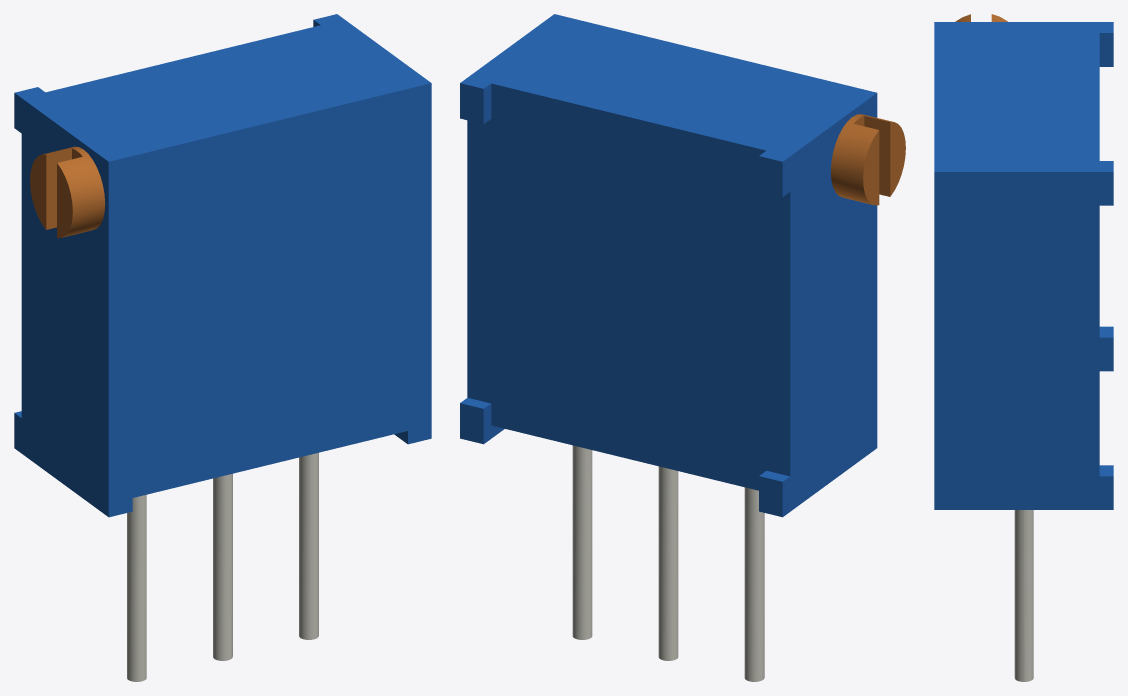
The model's file is kc-potentiometer_bourns_3296x_horizontal.glb.
The picture shows the model from 3 angles, left to right: view 1: azimuth 30°, elevation 25°; view 2: azimuth 150°, elevation 25°; view 3: azimuth 270°, elevation 25°; orthographic projection. The views are drawn at different scales.
Parts seen in each view (by area): view 1: 0_0.16666666666666666_0.5_0, 0.6666666666666666_0.6666666666666666_0.5833333333333334_0.8, 0.5_0.16666666666666666_0_0; view 2: 0_0.16666666666666666_0.5_0, 0.6666666666666666_0.6666666666666666_0.5833333333333334_0.8, 0.5_0.16666666666666666_0_0; view 3: 0_0.16666666666666666_0.5_0, 0.6666666666666666_0.6666666666666666_0.5833333333333334_0.8.
Part boxes in pixels (x1,y1,x2,y2): 0_0.16666666666666666_0.5_0: (14, 14, 431, 517); 0.6666666666666666_0.6666666666666666_0.5833333333333334_0.8: (127, 452, 318, 681); 0.5_0.16666666666666666_0_0: (30, 146, 105, 237); 0_0.16666666666666666_0.5_0: (460, 14, 877, 517); 0.6666666666666666_0.6666666666666666_0.5833333333333334_0.8: (572, 445, 764, 681); 0.5_0.16666666666666666_0_0: (830, 114, 905, 205); 0_0.16666666666666666_0.5_0: (934, 22, 1113, 509); 0.6666666666666666_0.6666666666666666_0.5833333333333334_0.8: (1014, 510, 1033, 681).
Size of the model in its own units: 1.05 by 1.61 by 0.4829.
